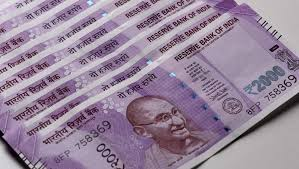twoThousand: (60, 58, 293, 165)
